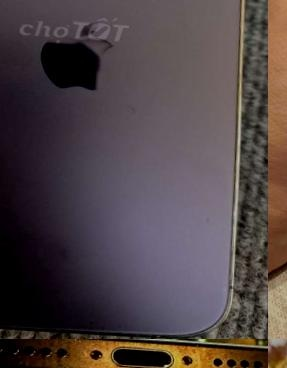scratch: (57, 339, 97, 365), (222, 339, 239, 361), (255, 347, 268, 368), (185, 339, 201, 356), (13, 354, 30, 368)
